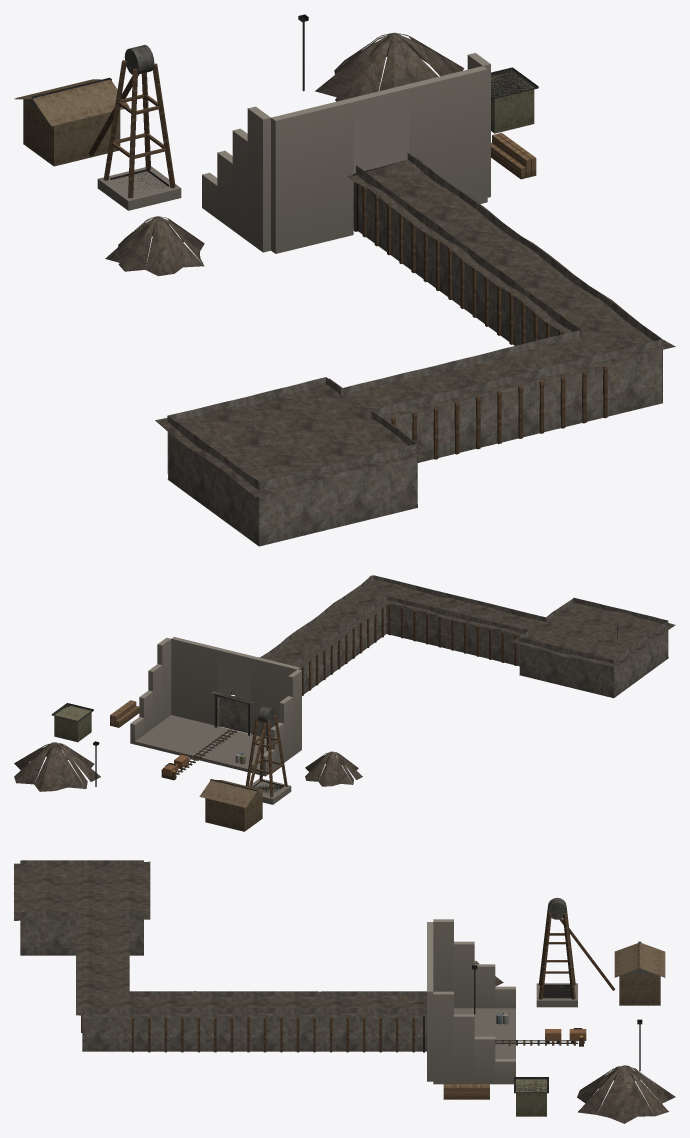
File: vesper-mine.glb
The picture shows the model from 3 angles, top to bottom: view 1: azimuth 30°, elevation 25°; view 2: azimuth 150°, elevation 25°; view 3: azimuth 270°, elevation 25°; orthographic projection. The views are drawn at different scales.
Visible parts, largest first — view 1: m_int_adit, m_ext_portal, m_ext_headframe, m_ext_spoil, m_ext_yard; view 2: m_int_adit, m_ext_portal, m_ext_headframe, m_ext_spoil, m_ext_yard; view 3: m_int_adit, m_ext_portal, m_ext_headframe, m_ext_spoil, m_ext_yard.
Part boxes in pixels (left/top/right/bottom): m_int_adit: left=155, top=153, right=675, bottom=546; m_ext_portal: left=202, top=53, right=490, bottom=253; m_ext_headframe: left=14, top=45, right=181, bottom=210; m_ext_spoil: left=105, top=32, right=464, bottom=276; m_ext_yard: left=298, top=14, right=538, bottom=179; m_int_adit: left=211, top=575, right=675, bottom=733; m_ext_portal: left=130, top=637, right=301, bottom=776; m_ext_headframe: left=199, top=706, right=291, bottom=831; m_ext_spoil: left=14, top=742, right=362, bottom=791; m_ext_yard: left=51, top=700, right=267, bottom=786; m_int_adit: left=14, top=860, right=426, bottom=1052; m_ext_portal: left=422, top=919, right=515, bottom=1084; m_ext_headframe: left=536, top=897, right=665, bottom=1007; m_ext_spoil: left=474, top=961, right=675, bottom=1123; m_ext_yard: left=443, top=965, right=642, bottom=1116.
Size of the model in its own units: 49.88 by 10.7 by 64.09.
8 materials, 6 textured.
